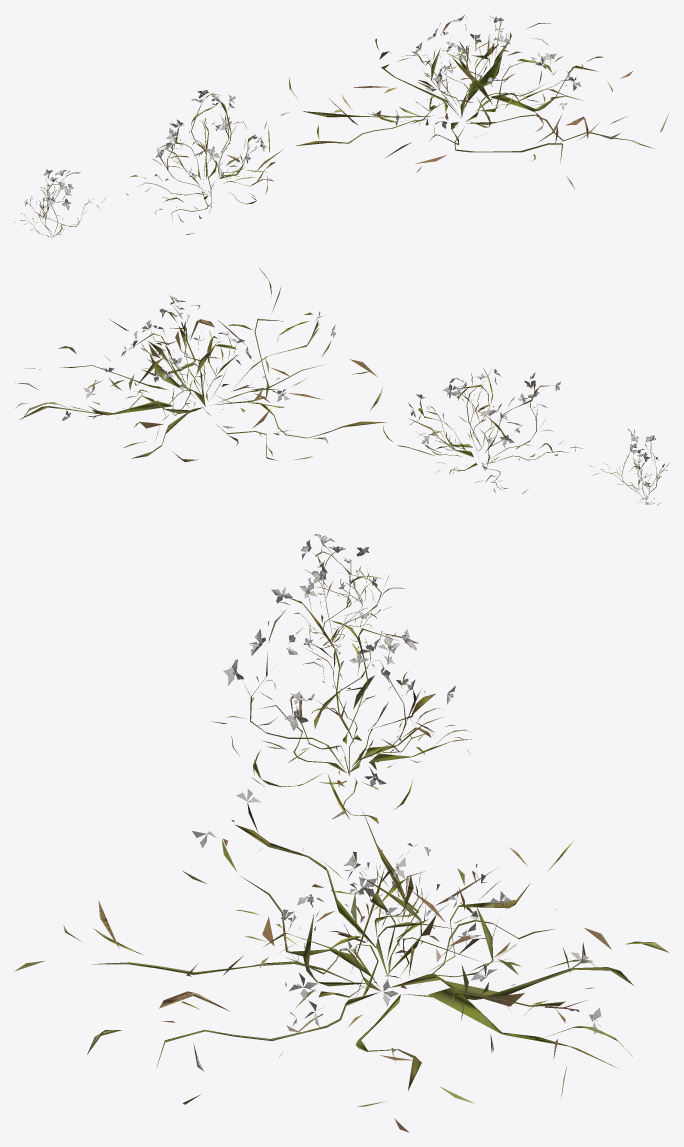
Rendered from flower_heliophila.glb.
3 views of the same model, one above another, from view 1: azimuth 30°, elevation 25°; view 2: azimuth 150°, elevation 25°; view 3: azimuth 270°, elevation 25° (orthographic). The views are drawn at different scales.
Visible parts, largest first — view 1: flower_heliophila_large, flower_heliophila_medium, flower_heliophila_small; view 2: flower_heliophila_large, flower_heliophila_medium, flower_heliophila_small; view 3: flower_heliophila_large, flower_heliophila_medium, flower_heliophila_small.
Part boxes in pixels (x1,y1,x2,y2): flower_heliophila_large: (255, 15, 668, 188); flower_heliophila_medium: (126, 90, 275, 234); flower_heliophila_small: (14, 169, 105, 238); flower_heliophila_large: (15, 268, 439, 462); flower_heliophila_medium: (383, 368, 584, 493); flower_heliophila_small: (589, 429, 669, 504); flower_heliophila_large: (14, 774, 669, 1132); flower_heliophila_medium: (211, 582, 471, 823); flower_heliophila_small: (279, 534, 404, 648).
Bounding box in the file's own units: 2.59 × 0.3872 × 1.39.
Materials: 1 (1 with a texture image).
